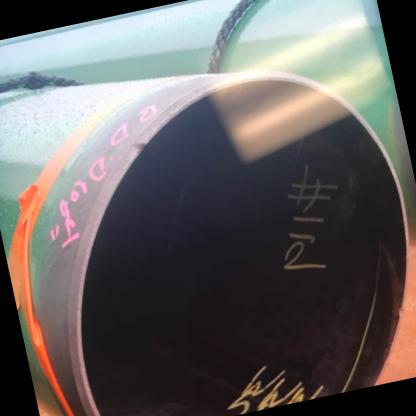Bevel: (124, 128, 153, 162)
